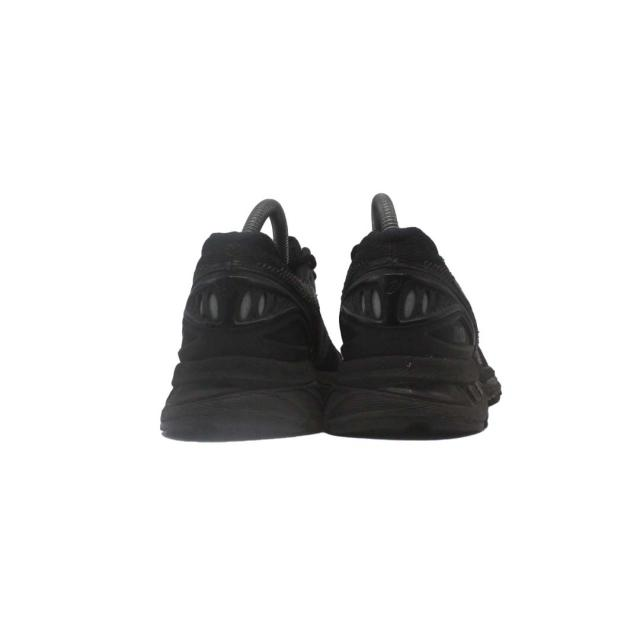heel: (340, 212, 478, 380), (175, 218, 313, 373)
midsole: (159, 363, 511, 438)
